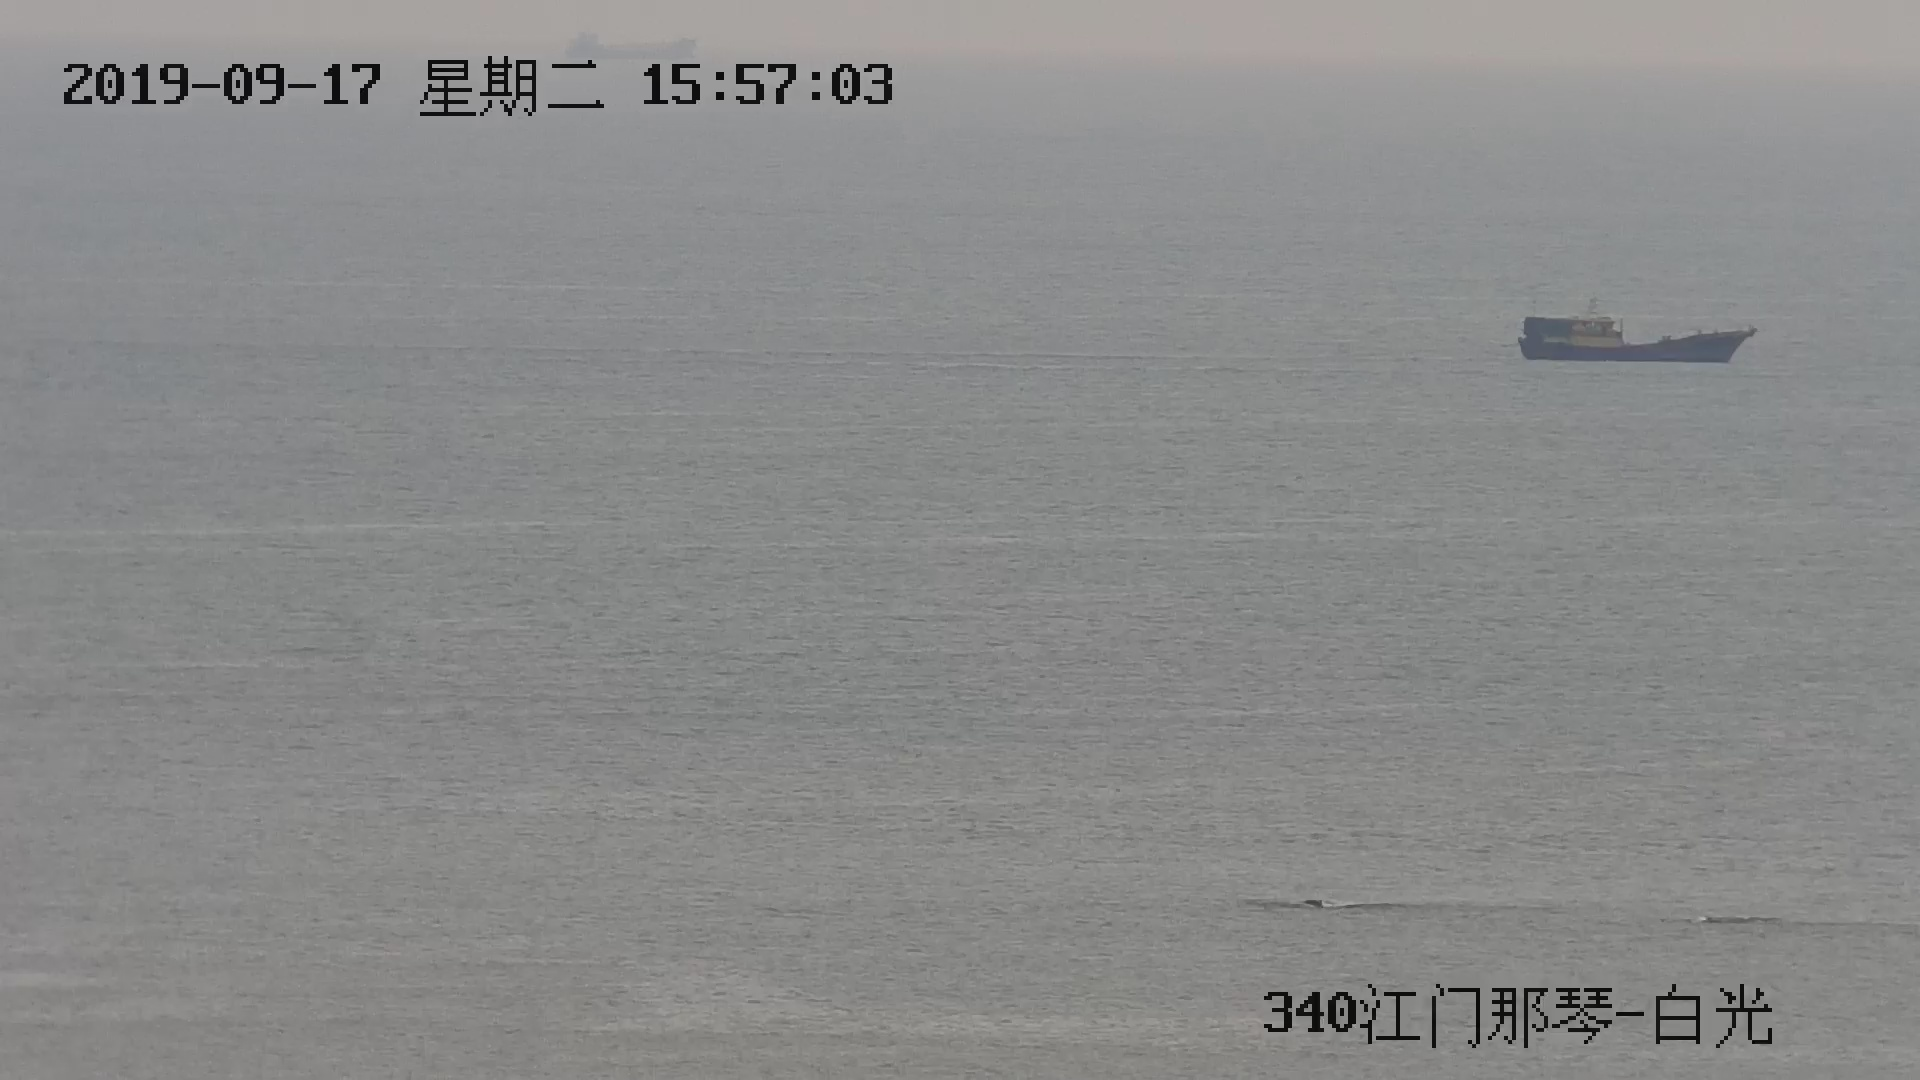ship: (1519, 303, 1756, 367)
